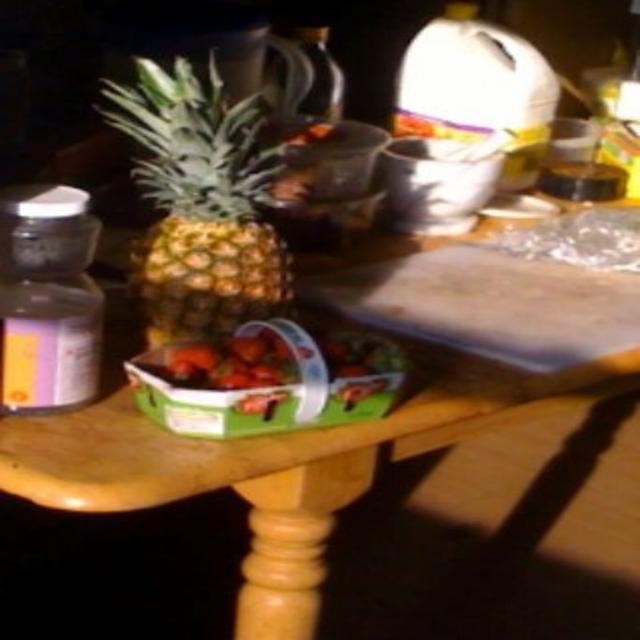Pineapple: (96, 48, 310, 354)
